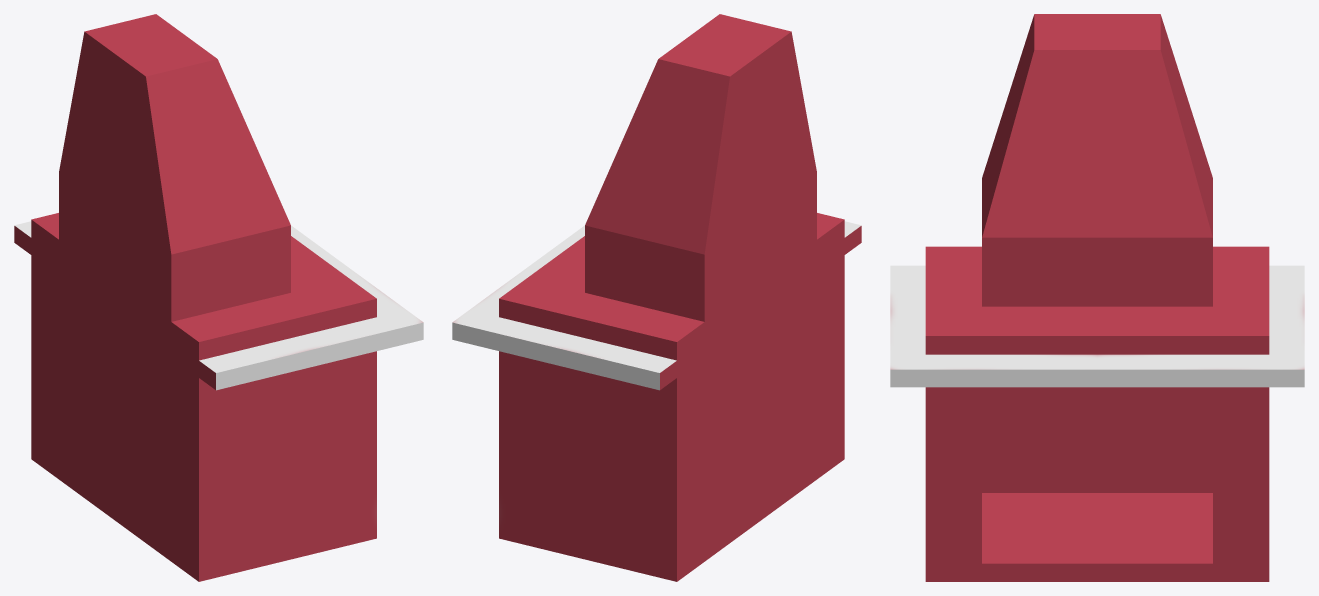
The model's file is fireplace.fbx.
3 renders of one model, left to right at view 1: azimuth 30°, elevation 25°; view 2: azimuth 150°, elevation 25°; view 3: azimuth 270°, elevation 25°, orthographic. The views are drawn at different scales.
Visible parts, largest first — view 1: Cube; view 2: Cube; view 3: Cube.
Boxes of the visible parts, x1=… form: Cube: x1=14, y1=14, x2=423, y2=581; Cube: x1=452, y1=14, x2=861, y2=581; Cube: x1=890, y1=14, x2=1304, y2=581.
Bounding box in the file's own units: 519 × 1115 × 874.
1 material, 1 textured.
